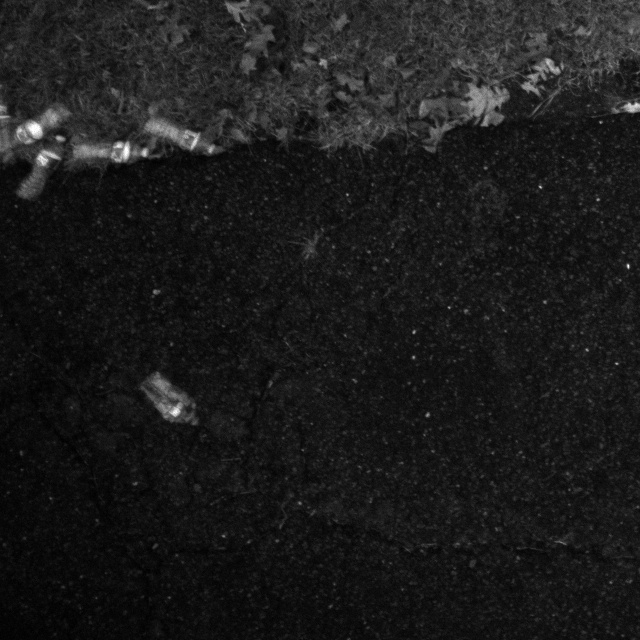bottle: (137, 104, 223, 157), (18, 126, 73, 207), (137, 368, 202, 431), (66, 130, 166, 170), (0, 104, 73, 151)
